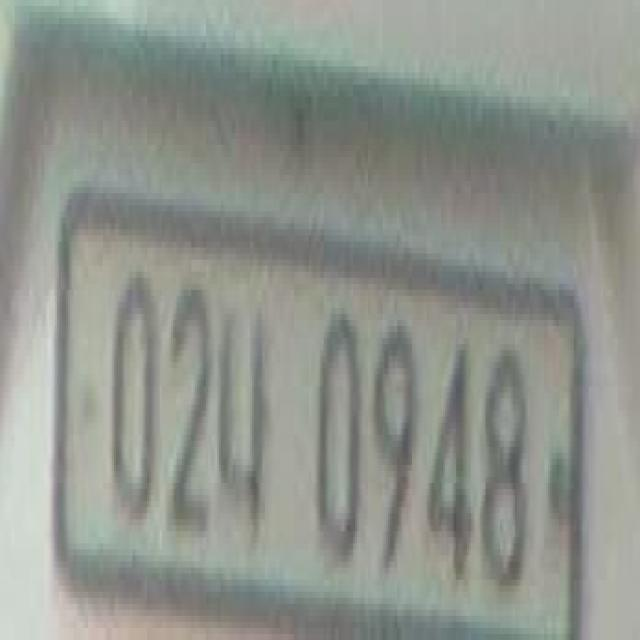illegal_plate: (57, 220, 589, 634)
